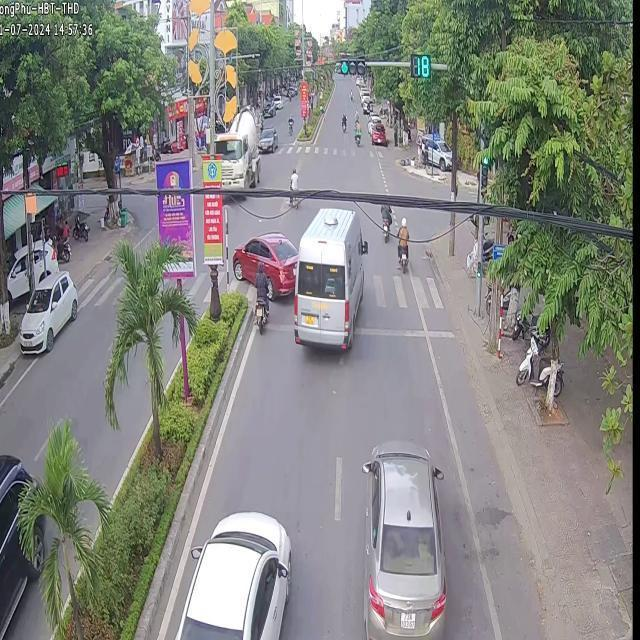car: (360, 440, 444, 636), (178, 509, 289, 638), (293, 207, 366, 347), (230, 231, 296, 298), (213, 105, 258, 187)
green_light: (334, 56, 368, 74), (479, 154, 488, 187)
motobike: (253, 260, 268, 320), (396, 216, 408, 269), (287, 167, 297, 207), (380, 202, 390, 240), (253, 310, 259, 325)
stop_line: (261, 321, 454, 336)
